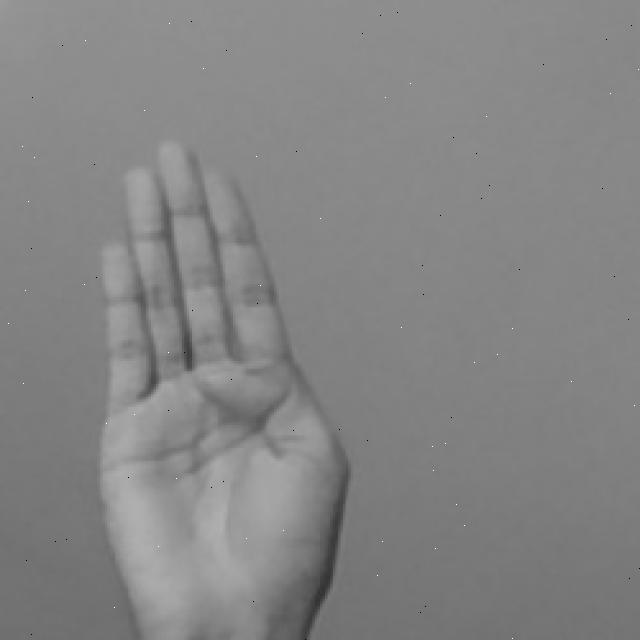B: (93, 135, 353, 640)
